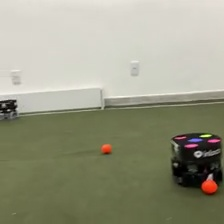ball: (199, 177, 219, 196), (100, 142, 112, 154)
goal: (1, 85, 107, 114)
robot: (168, 130, 224, 192), (1, 97, 19, 122)
